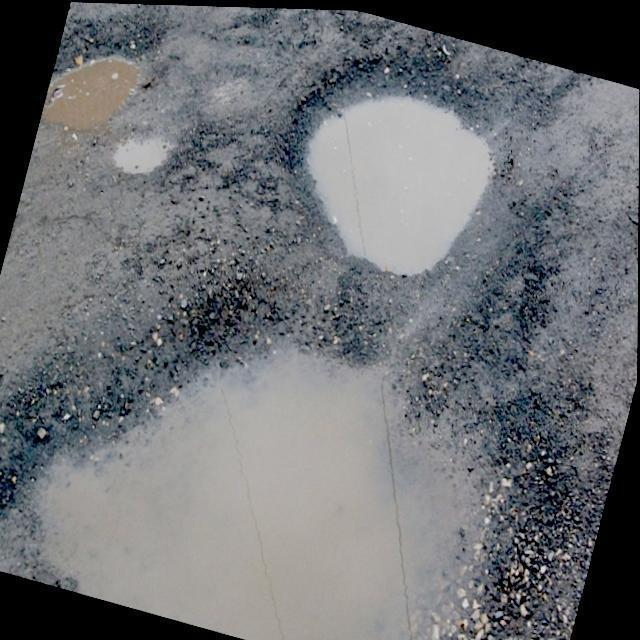Pothole: (16, 328, 506, 640), (295, 75, 494, 276), (42, 36, 146, 139)
